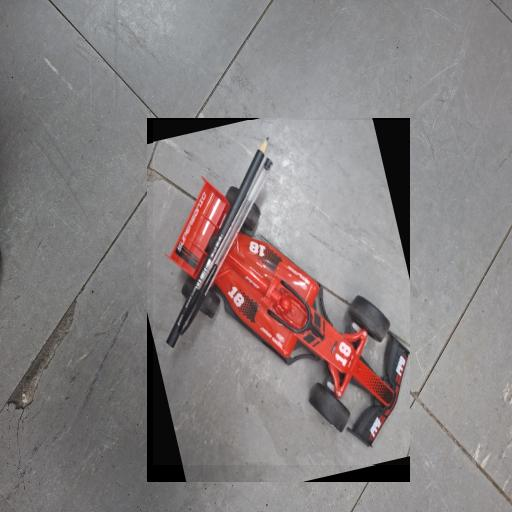carro: (154, 120, 410, 465)
